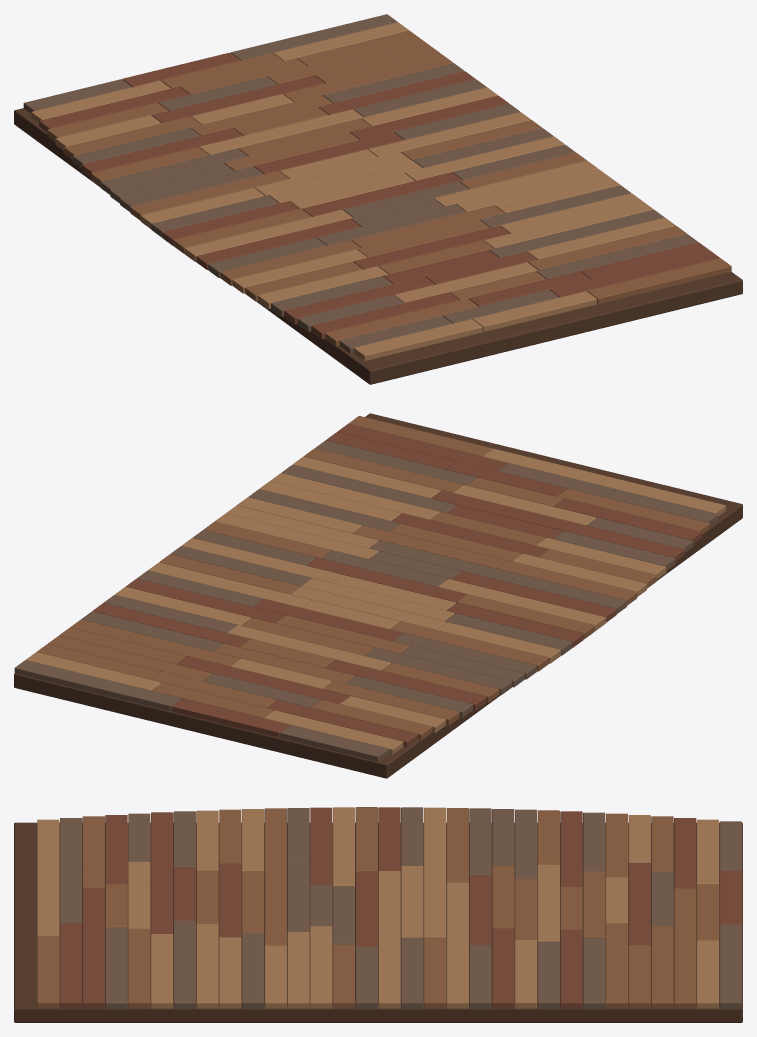
File: SM_Menu_StageDeck.fbx
3 views of the same model, one above another, from view 1: azimuth 30°, elevation 25°; view 2: azimuth 150°, elevation 25°; view 3: azimuth 270°, elevation 25° (orthographic). The views are drawn at different scales.
Parts seen in each view (by area): view 1: SM_Menu_StageDeck; view 2: SM_Menu_StageDeck; view 3: SM_Menu_StageDeck.
Part boxes in pixels (bbox=[...]): SM_Menu_StageDeck: bbox=[14, 14, 742, 384]; SM_Menu_StageDeck: bbox=[14, 413, 742, 778]; SM_Menu_StageDeck: bbox=[14, 807, 742, 1022].
Bounding box in the file's own units: 735 × 1157 × 36.08.
